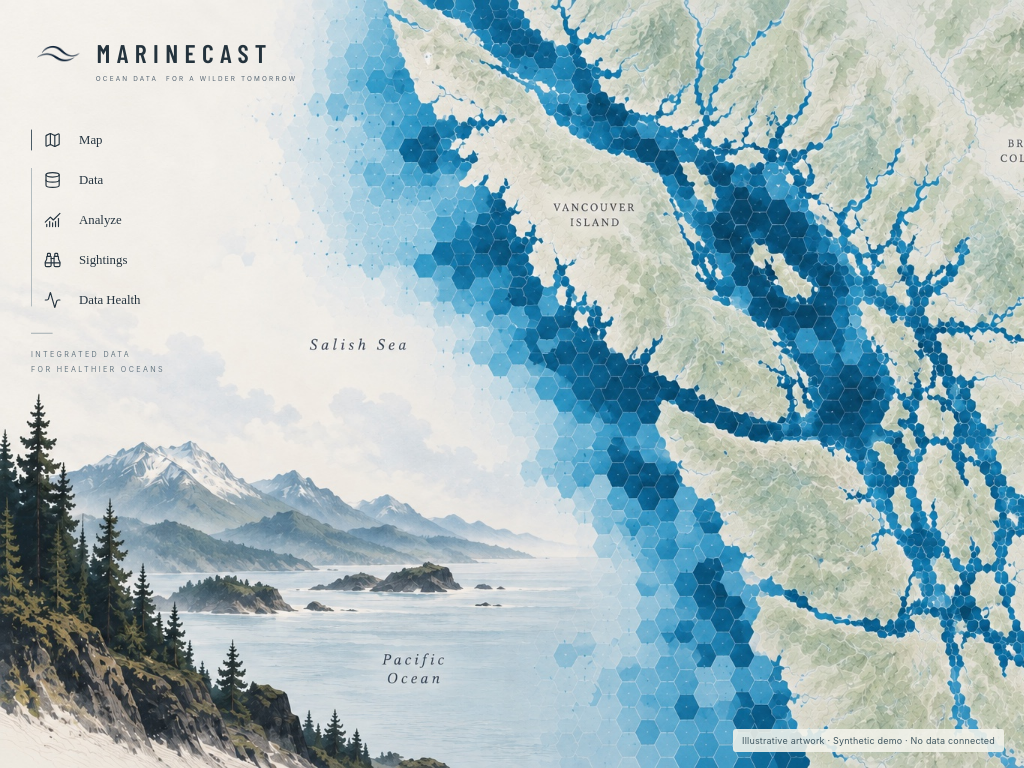
home entry and navigation › opens a synthetic catalog and preserves the selected static feature on the map
The width and height of the screenshot is (1024, 768).
Click the button "Data" at {"x": 135, "y": 180}, box [31,160,239,200]
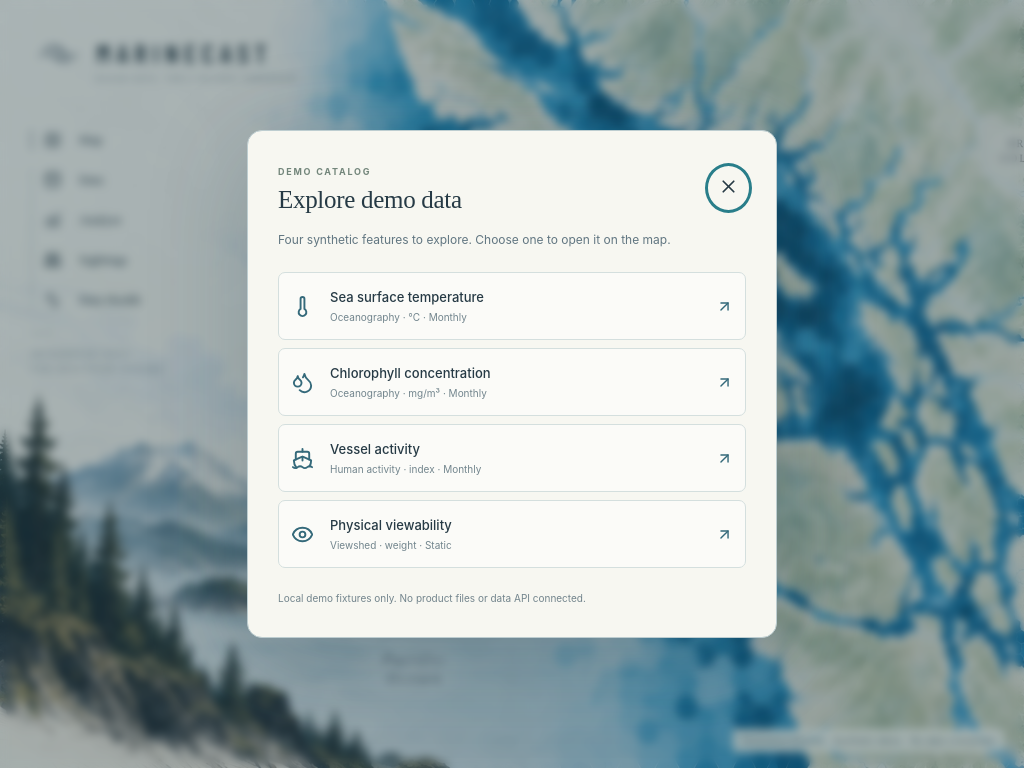
Check: the dialog "Explore demo data" shows "No product files or data API connected", box [278,592,586,604]
Click the button "Physical viewability Viewshed · weight · Static" at {"x": 391, "y": 525}, box [278,500,746,568]
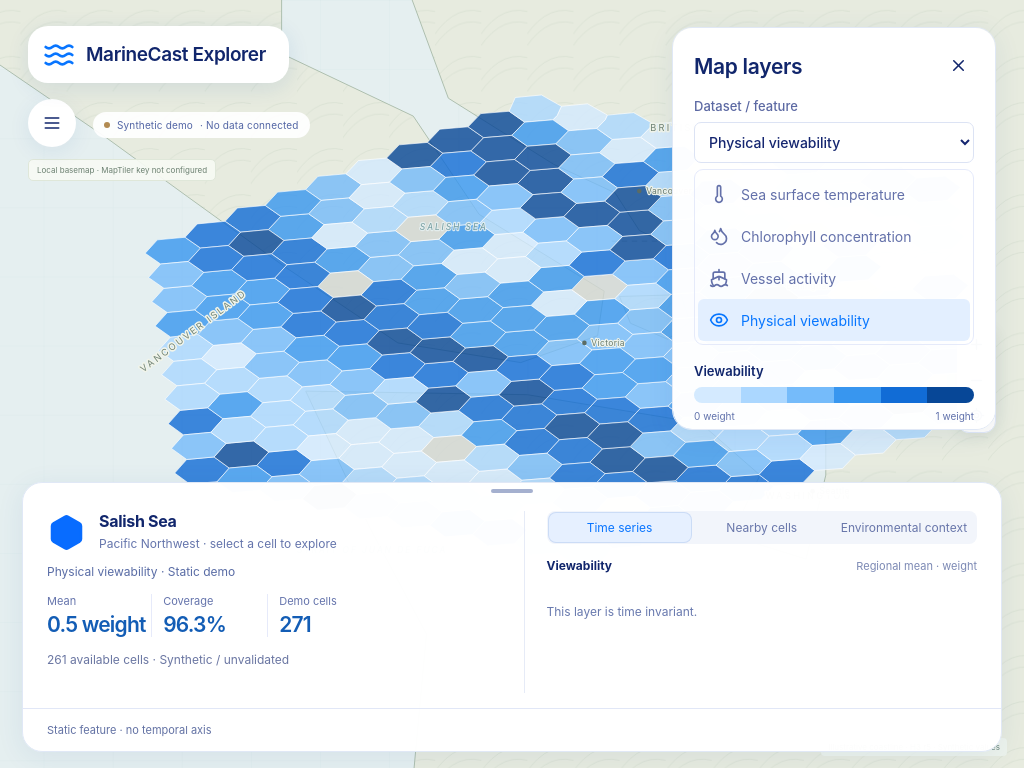
Check: the dropdown labelled "Dataset / feature" shows "Physical viewability", box [694,122,974,163]
Check: the text "Static feature · no temporal axis" is shown, box [23,708,1001,751]
